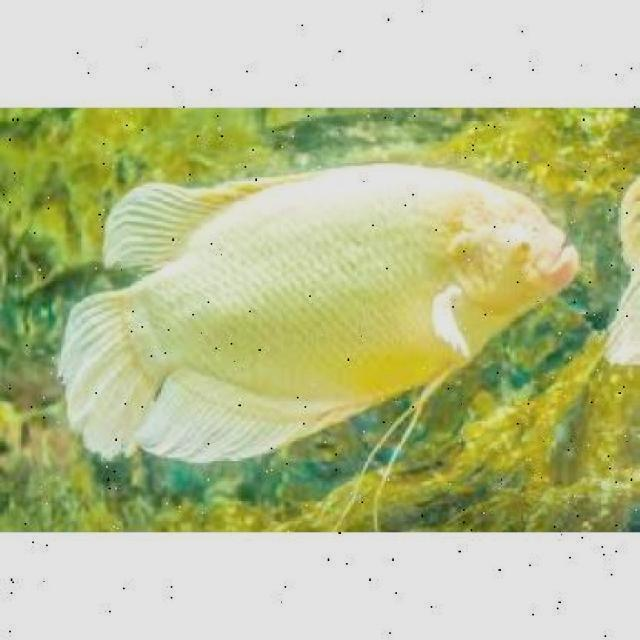gurame: (72, 166, 578, 431)
